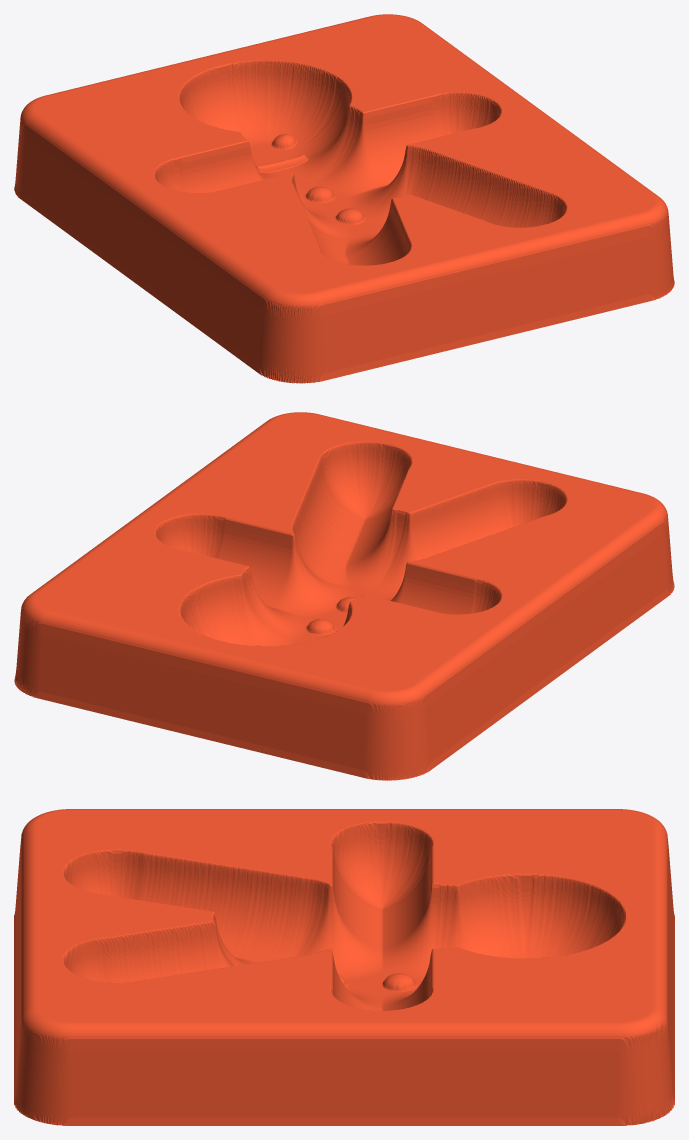
Rendered from mold.glb.
3 views of the same model, one above another, from view 1: azimuth 30°, elevation 25°; view 2: azimuth 150°, elevation 25°; view 3: azimuth 270°, elevation 25° (orthographic). The views are drawn at different scales.
Visible parts, largest first — view 1: geometry_0; view 2: geometry_0; view 3: geometry_0.
Boxes of the visible parts, x1,y1,x2,y2 form: geometry_0: (14, 14, 674, 383); geometry_0: (14, 412, 674, 780); geometry_0: (14, 809, 674, 1125).
Size of the model in its own units: 0.0868 by 0.0165 by 0.105.
